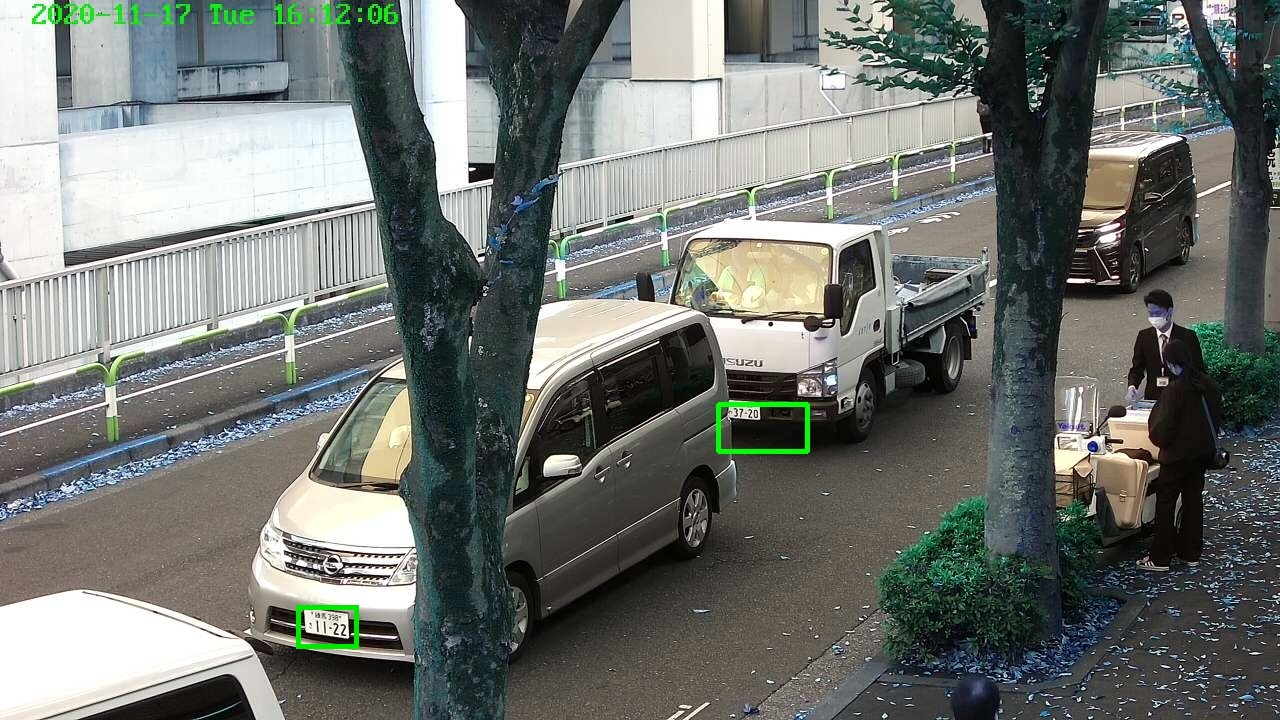number_plate: (302, 606, 350, 635), (728, 402, 761, 420)
